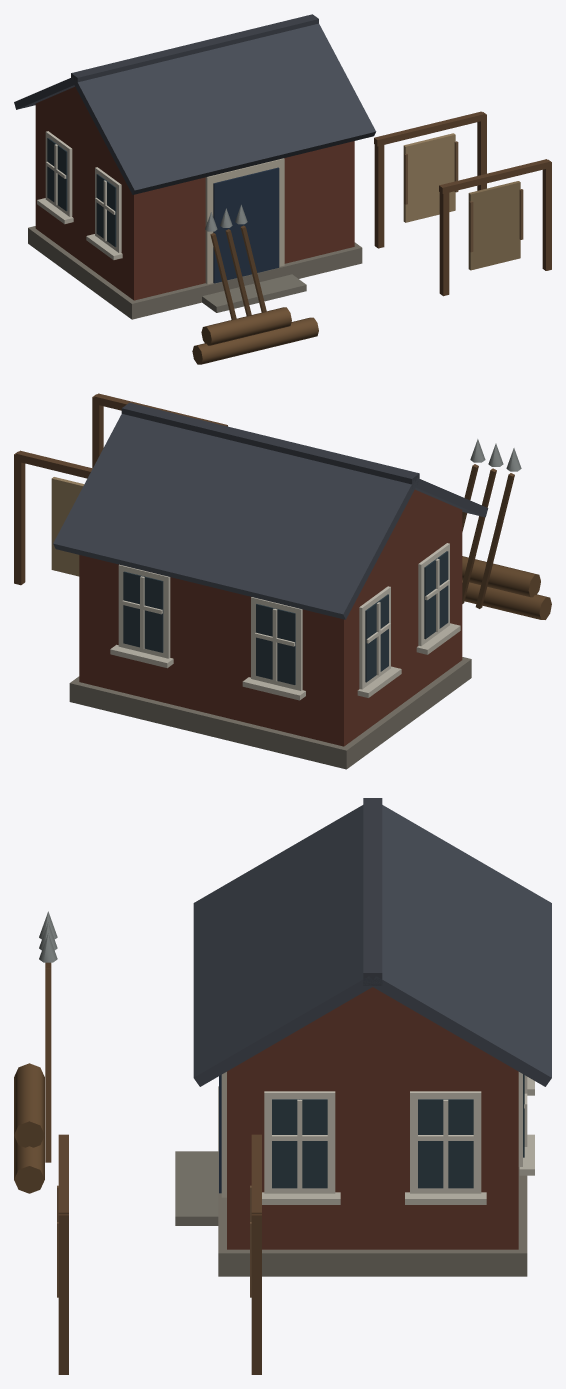
File: procedural_hunter@5.glb
3 views of the same model, one above another, from view 1: azimuth 30°, elevation 25°; view 2: azimuth 150°, elevation 25°; view 3: azimuth 270°, elevation 25° (orthographic). The views are drawn at different scales.
Visible parts, largest first — view 1: part_0; view 2: part_0; view 3: part_0.
Boxes of the visible parts, <box> form: part_0: <box>14,14,551,364</box>; part_0: <box>14,393,551,769</box>; part_0: <box>14,798,551,1374</box>.
Bounding box in the file's own units: 7.42 × 3.96 × 6.27.
